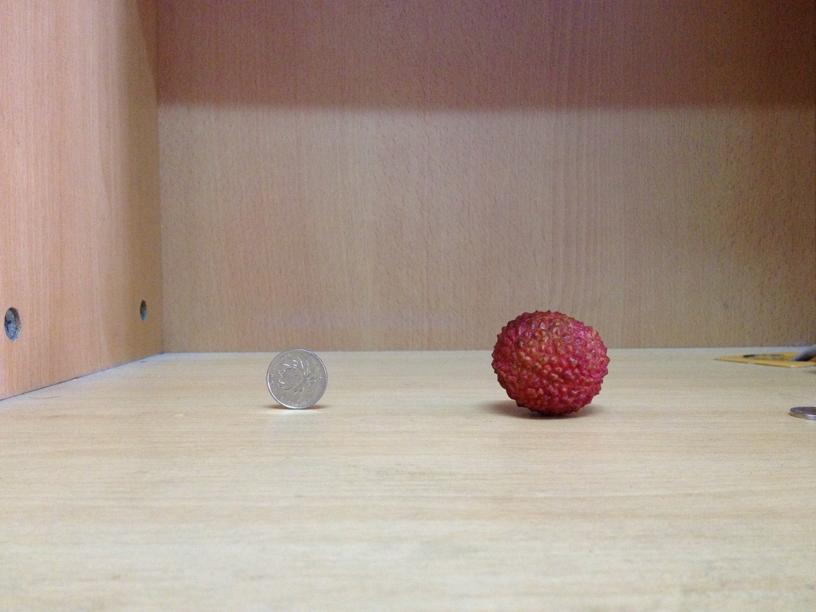coin: (265, 347, 327, 408)
litchi: (487, 310, 610, 414)
